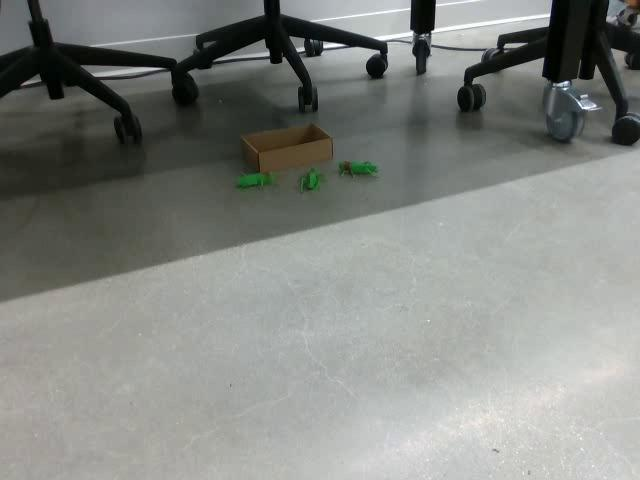box: (239, 122, 333, 174)
grasshopper: (338, 158, 380, 179), (234, 171, 275, 191), (299, 167, 322, 193)
